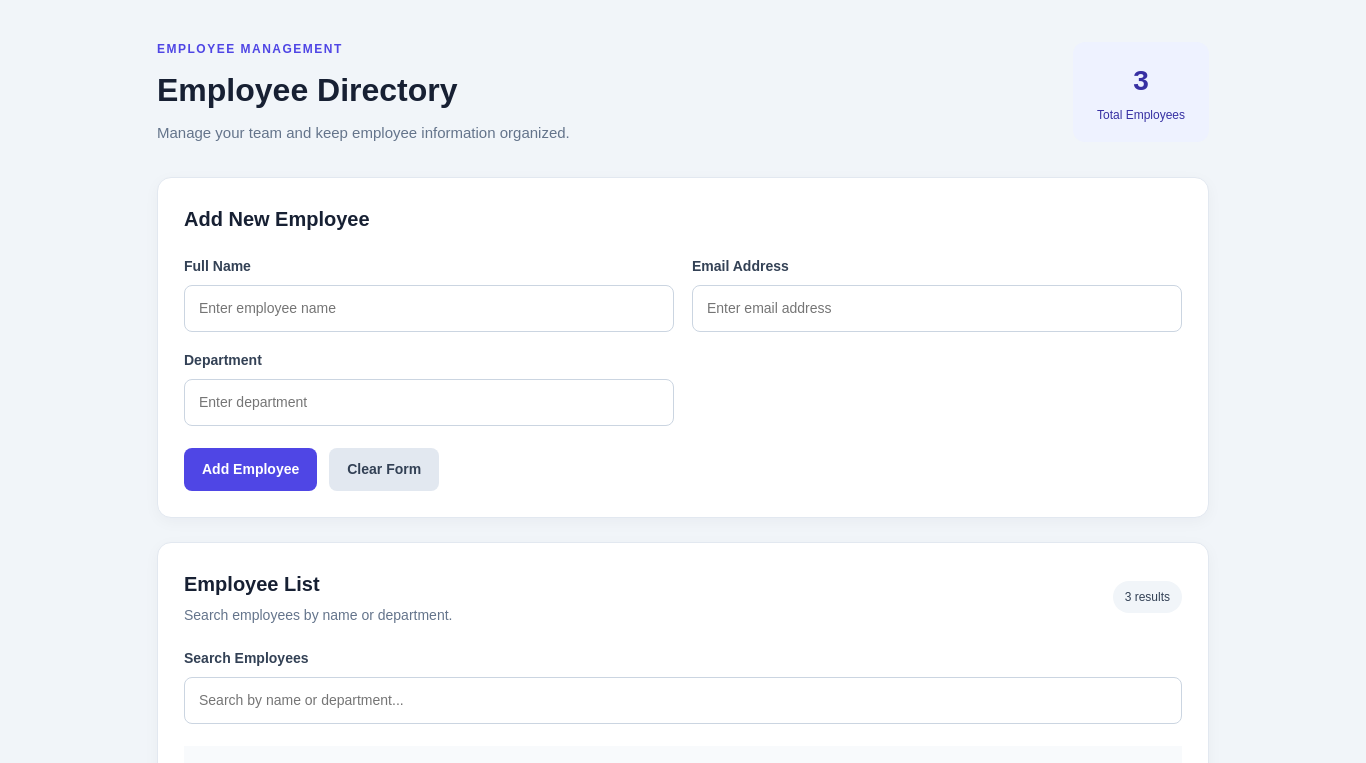
Scenario: Employee Management Application › shows a message when no employees match the search
Type "Finance" into the field labelled "Search Employees".
click(683, 700); type("Finance")  # box [184,676,1182,724]
(page scrolled)
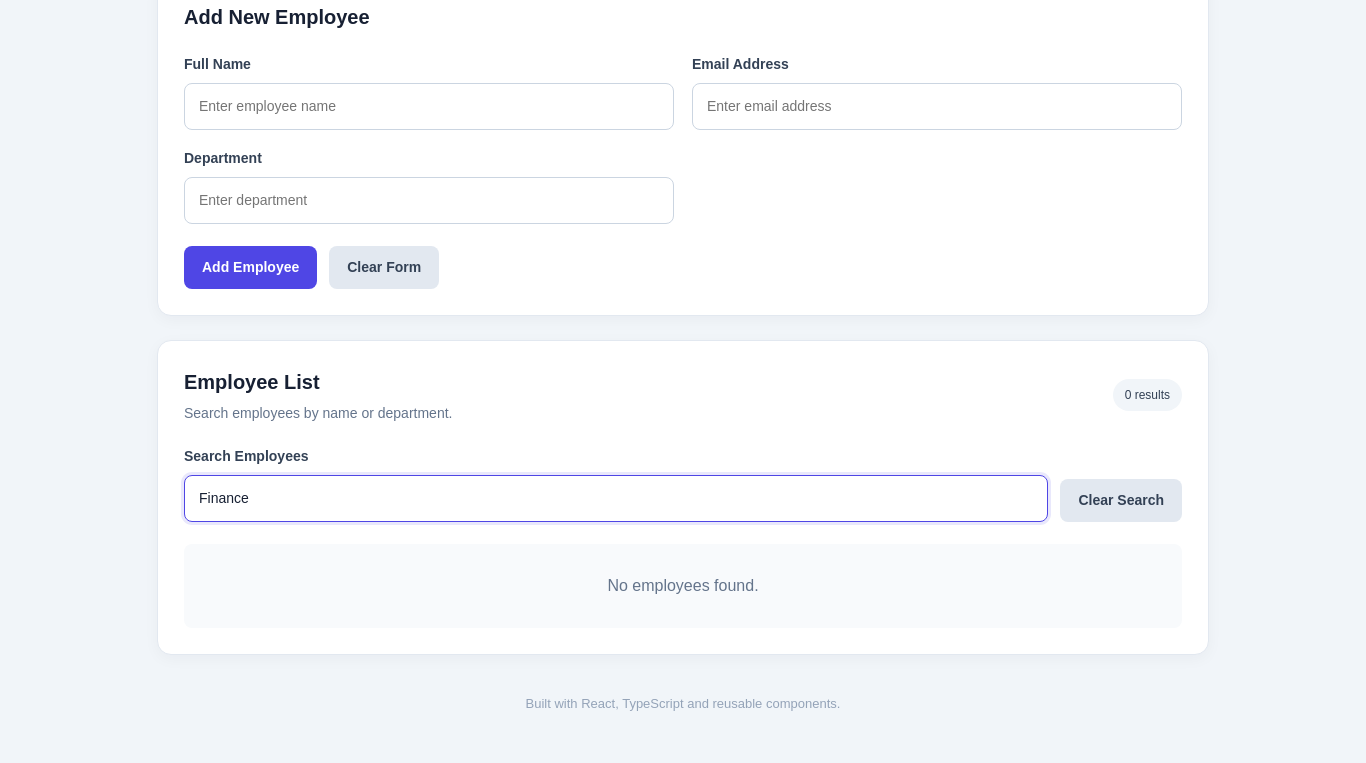
Expected: the text "No employees found." is shown, [184,544,1182,628]
